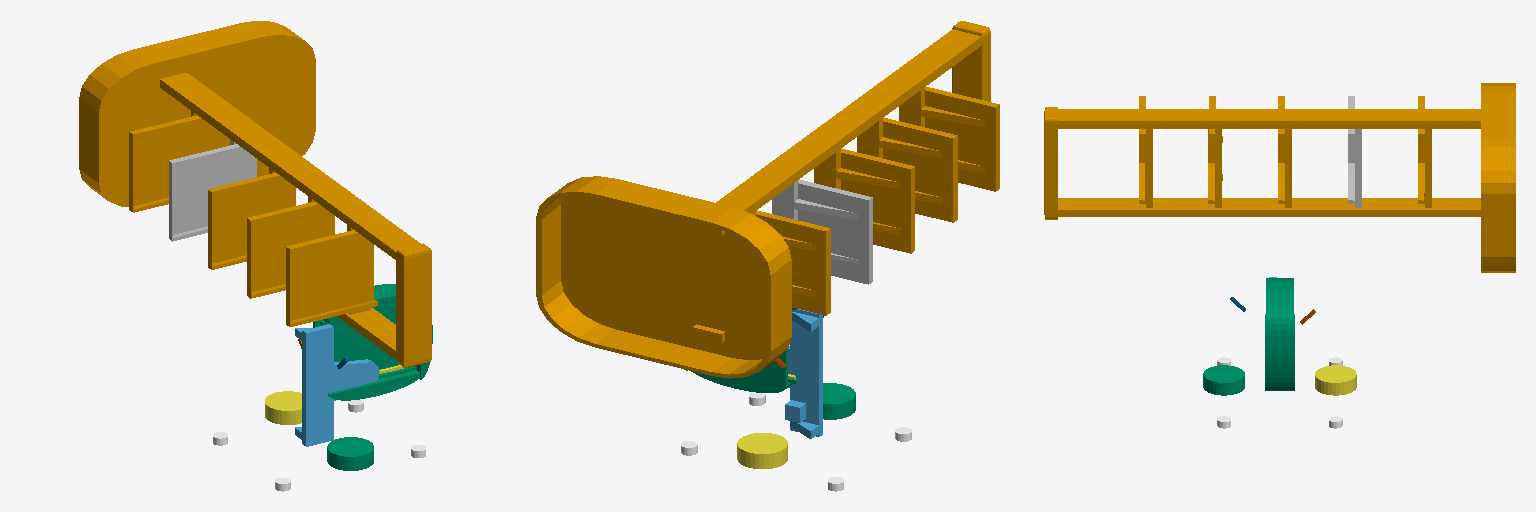
The robot description file, URDF, robot "tote":
<?xml version="1.0"?>
<robot name="tote">

  <link name="base_footprint"/>

  <joint name="base_footprint_joint" type="fixed">
    <parent link="base_footprint"/>
    <child link="base_link"/>
    <origin xyz="0 0 0" rpy="0 0 0"/>
  </joint>

  <link name="base_link">
    <visual>   <geometry> <box size="0.1 0.1 0.1"/> </geometry> </visual>
    <collision><geometry> <box size="0.1 0.1 0.1"/> </geometry> </collision>
    <inertial>
      <mass value="50.0"/> <inertia ixx="50" ixy="0.0" ixz="0.0" iyy="50" iyz="0.0" izz="50"/>
    </inertial>
  </link>

  <joint name="left_wheel_joint" type="continuous">
    <parent link="base_link"/>
    <child link="left_wheel_link"/>
    <origin xyz="0 -0.4 -0.101" rpy="0 0 0"/> <axis xyz="0 1 0"/> </joint>
  <link name="left_wheel_link">
    <visual>
      <geometry> <mesh filename="tote_wheel_test.dae"/> </geometry>
    </visual>
    <collision>
      <geometry> <mesh filename="tote_wheel_test.dae"/> </geometry>
    </collision>
  </link>

  <joint name="right_wheel_joint" type="continuous">
    <parent link="base_link"/>
    <child link="right_wheel_link"/>
    <origin xyz="0 0.4 -0.101" rpy="0 0 0"/> <axis xyz="0 1 0"/>
  </joint>
  <link name="right_wheel_link">
    <visual>
      <geometry> <mesh filename="tote_wheel_test.dae"/> </geometry>
    </visual>
    <collision>
      <geometry> <mesh filename="tote_wheel_test.dae"/> </geometry>
    </collision>
  </link>

  <joint name="cast_wheel_joint1" type="fixed">
    <parent link="base_link"/>
    <child link="cast_wheel_link1"/>
    <origin xyz="0.5 0.4 -0.2" rpy="0 0 0"/>
  </joint>
  <link name="cast_wheel_link1">
    <visual>
      <geometry> <mesh filename="tote_cast_wheel.dae"/> </geometry>
    </visual>
    <collision>
      <geometry> <mesh filename="tote_cast_wheel.dae"/> </geometry>
    </collision>
  </link>

  <joint name="cast_wheel_joint2" type="fixed">
    <parent link="base_link"/>
    <child link="cast_wheel_link2"/>
    <origin xyz="-0.5 0.4 -0.2" rpy="0 0 0"/>
  </joint>
  <link name="cast_wheel_link2">
    <visual>
      <geometry> <mesh filename="tote_cast_wheel.dae"/> </geometry>
    </visual>
    <collision>
      <geometry> <mesh filename="tote_cast_wheel.dae"/> </geometry>
    </collision>
  </link>

  <joint name="cast_wheel_joint3" type="fixed">
    <parent link="base_link"/>
    <child link="cast_wheel_link3"/>
    <origin xyz="0.5 -0.4 -0.2" rpy="0 0 0"/>
  </joint>
  <link name="cast_wheel_link3">
    <visual>
      <geometry> <mesh filename="tote_cast_wheel.dae"/> </geometry>
    </visual>
    <collision>
      <geometry> <mesh filename="tote_cast_wheel.dae"/> </geometry>
    </collision>
  </link>

  <joint name="cast_wheel_joint4" type="fixed">
    <parent link="base_link"/>
    <child link="cast_wheel_link4"/>
    <origin xyz="-0.5 -0.4 -0.2" rpy="0 0 0"/>
  </joint>
  <link name="cast_wheel_link4">
    <visual>
      <geometry> <mesh filename="tote_cast_wheel.dae"/> </geometry>
    </visual>
    <collision>
      <geometry> <mesh filename="tote_cast_wheel.dae"/> </geometry>
    </collision>
  </link>

  <joint name="mast_joint" type="fixed">
    <parent link="base_link"/>
    <child link="mast_link"/>
    <origin xyz="0 0 1.5" rpy="0 0 0"/>
  </joint>
  <link name="mast_link">
    <visual>
      <geometry> 
        <mesh filename="tote_mast.dae"/> 
      </geometry> 
    </visual>
    
    <collision>
      <origin xyz="0 0 0" rpy="0 0 0"/>
      <geometry> 
        <mesh filename="tote_mast.dae"/> 
      </geometry> 
    </collision>
    
    <inertial>
      <mass value="100.0"/> 
      <origin xyz="0 0 -1.5" rpy="0 0 0"/>
      <inertia ixx="0.2" ixy="0.0" ixz="0.0" iyy="0.2" iyz="0.0" izz="0.05"/>
    </inertial>
  </link>

  <joint name="lift_z_joint" type="prismatic">
    <parent link="mast_link"/>
    <child link="lift_shuttle_link"/>
    <origin xyz="0.13 0 -1.25" rpy="0 0 0"/>
    <axis xyz="0 0 1"/> <limit lower="0.0" upper="2.5" effort="500" velocity="0.6"/>
  </joint>

  <link name="lift_shuttle_link">
    <visual>
      <geometry> <mesh filename="tote_lift_base.dae"/> </geometry>
    </visual>
    <collision>
      <geometry> <mesh filename="tote_lift_base.dae"/> </geometry>
    </collision>
  </link>

  <joint name="lift_rotation_joint" type="revolute">
    <parent link="lift_shuttle_link"/>
    <child link="shuttle_rotator_link"/>
    <origin xyz="0.15 0 0.19" rpy="0 0 0"/> <axis xyz="0 0 1"/> <limit lower="-1.5708" upper="1.5708" effort="100" velocity="1.0"/> </joint>

  <link name="shuttle_rotator_link">
    <visual>
      <geometry> <mesh filename="tote_lift_rotate.dae"/> </geometry>
    </visual>
    <collision><geometry> <mesh filename="tote_lift_rotate.dae"/> </geometry> </collision>
    <inertial>
      <mass value="1.0"/> 
      <origin xyz="0 0 0" rpy="0 0 0"/>
      <inertia ixx="0.2" ixy="0.0" ixz="0.0" iyy="0.2" iyz="0.0" izz="0.05"/>
    </inertial>
  </link>

  <joint name="fork_extension_joint" type="prismatic">
    <parent link="shuttle_rotator_link"/>
    <child link="fork_arm_link"/>
    <origin xyz="0.080 0 0.01" rpy="0 0 0"/> <axis xyz="-1 0 0"/> <limit lower="0.0" upper="1.2" effort="150" velocity="0.5"/> </joint>

  <link name="fork_arm_link">
    <visual>
      <geometry> <mesh filename="tote_lift_arm.dae"/> </geometry>
    </visual>
    <collision><geometry> <mesh filename="tote_lift_arm.dae"/> </geometry> </collision>
    <inertial>
      <mass value="1.0"/> 
      <origin xyz="0 0 0" rpy="0 0 0"/>
      <inertia ixx="0.2" ixy="0.0" ixz="0.0" iyy="0.2" iyz="0.0" izz="0.05"/>
    </inertial>
  </link>

  <joint name="left_claw_joint" type="revolute">
    <parent link="fork_arm_link"/>
    <child link="left_claw_link"/>
    <origin xyz="-0.36 -0.25 0" rpy="0.7854 0 0"/> <axis xyz="1 0 0"/> <limit lower="-0.8" upper="0.8" effort="50" velocity="0.1"/> </joint>

  <link name="left_claw_link">
    <visual>
      <geometry> <mesh filename="tote_lift_claw_l.dae"/> </geometry>
    </visual>
    <collision><geometry> <mesh filename="tote_lift_claw_l.dae"/> </geometry> </collision>
  </link>

  <joint name="right_claw_joint" type="revolute">
    <parent link="fork_arm_link"/>
    <child link="right_claw_link"/>
    <origin xyz="-0.36 0.25 0" rpy="-0.7854 0 0"/> <axis xyz="-1 0 0"/> <limit lower="-0.8" upper="0.8" effort="50" velocity="0.1"/> </joint>

  <link name="right_claw_link">
    <visual>
      <geometry> <mesh filename="tote_lift_claw_r.dae"/> </geometry>
    </visual>
    <collision><geometry> <mesh filename="tote_lift_claw_r.dae"/> </geometry> </collision>
  </link>
 
</robot>

--- Render facts (derived) ---
3 views of the same robot in one strip: view 1: azimuth 30°, elevation 25°; view 2: azimuth 150°, elevation 25°; view 3: azimuth 270°, elevation 25° (orthographic).
Model tote with 14 links and 13 joints (3 revolute, 2 continuous, 2 prismatic, 6 fixed), rooted at base_footprint, posed every joint at zero.
Visible links, largest first — view 1: mast_link, lift_shuttle_link, shuttle_rotator_link, left_wheel_link, right_wheel_link; view 2: mast_link, lift_shuttle_link, right_wheel_link, shuttle_rotator_link, left_wheel_link; view 3: mast_link, shuttle_rotator_link, left_wheel_link, right_wheel_link.
Link boxes in pixels (x1=…): mast_link: x1=79, y1=21, x2=431, y2=367; lift_shuttle_link: x1=295, y1=324, x2=379, y2=446; shuttle_rotator_link: x1=313, y1=284, x2=432, y2=400; left_wheel_link: x1=327, y1=437, x2=373, y2=470; right_wheel_link: x1=265, y1=391, x2=301, y2=424; mast_link: x1=536, y1=21, x2=999, y2=378; lift_shuttle_link: x1=788, y1=309, x2=822, y2=438; right_wheel_link: x1=737, y1=433, x2=787, y2=468; shuttle_rotator_link: x1=684, y1=308, x2=797, y2=392; left_wheel_link: x1=823, y1=383, x2=855, y2=419; mast_link: x1=1044, y1=83, x2=1515, y2=272; shuttle_rotator_link: x1=1265, y1=278, x2=1294, y2=390; left_wheel_link: x1=1203, y1=365, x2=1244, y2=395; right_wheel_link: x1=1315, y1=365, x2=1356, y2=395.
Bounding box of the posed robot: 1.6 × 3.38 × 2.23 m (x, y, z).
Meshes: 8 distinct files referenced, 12 mesh visuals loaded (8 Collada DAE).
